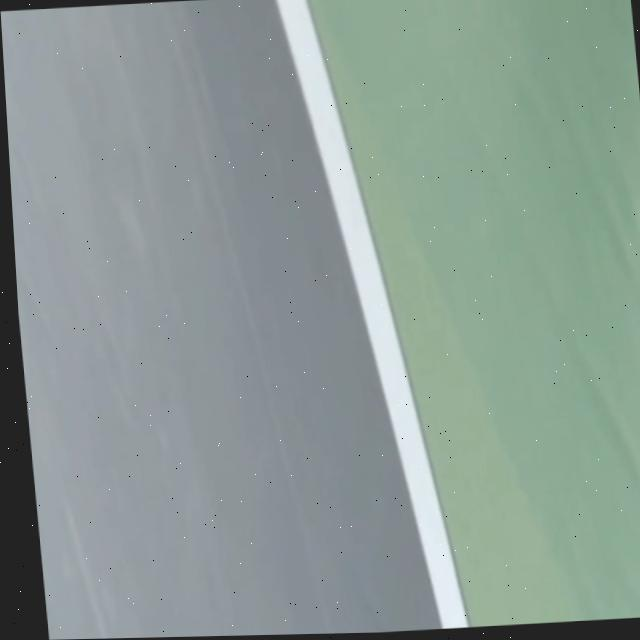right: (274, 0, 467, 628)
